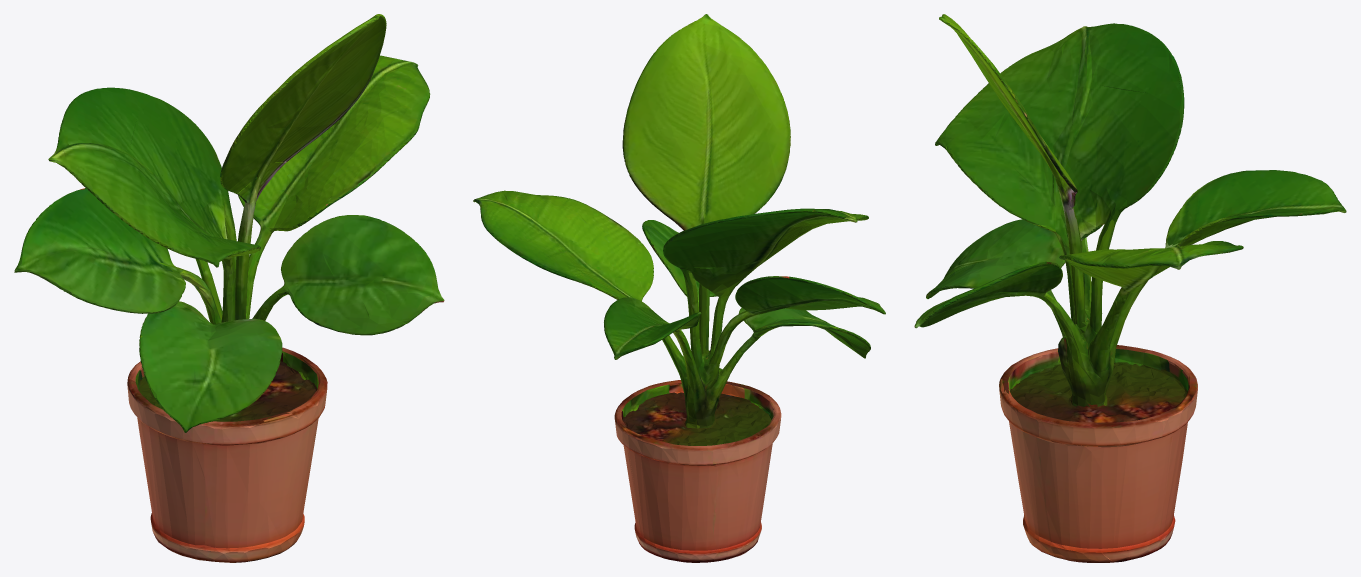
The model's file is biomechanical-growth-planter-generated-2026-04-18T02-38-02-192Z.low.glb.
The picture shows the model from 3 angles, left to right: view 1: azimuth 30°, elevation 25°; view 2: azimuth 150°, elevation 25°; view 3: azimuth 270°, elevation 25°; orthographic projection. The views are drawn at different scales.
Parts seen in each view (by area): view 1: temp_mesh.ply; view 2: temp_mesh.ply; view 3: temp_mesh.ply.
Part boxes in pixels (left/top/right/bottom): temp_mesh.ply: left=14, top=14, right=444, bottom=562; temp_mesh.ply: left=473, top=14, right=885, bottom=562; temp_mesh.ply: left=914, top=14, right=1346, bottom=562.
Size of the model in its own units: 1.67 by 1.97 by 1.4.
1 material, 1 textured.
